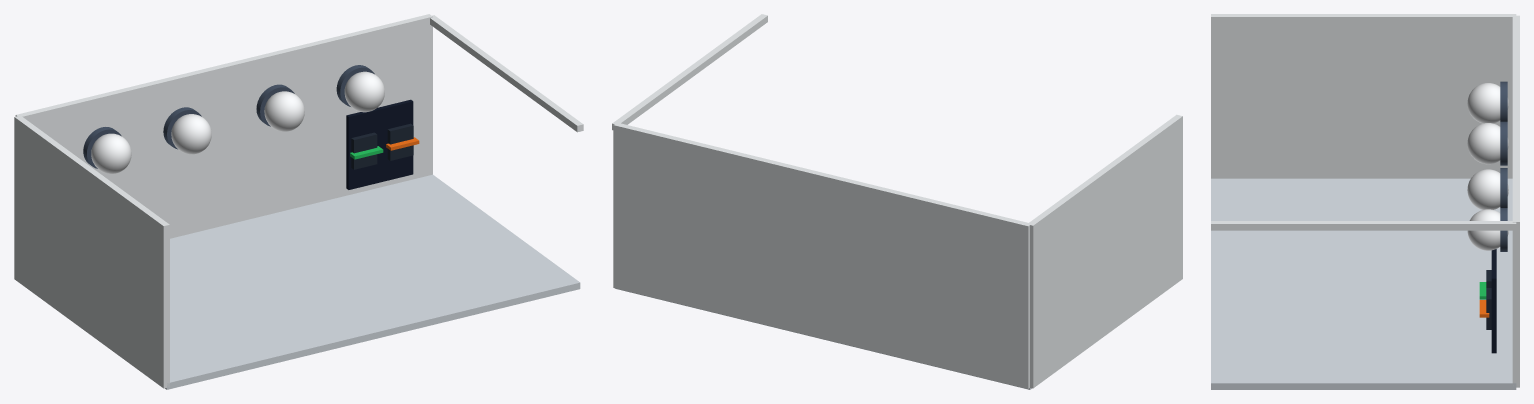
File: switch-room.glb
3 views of the same model, side by side, from view 1: azimuth 30°, elevation 25°; view 2: azimuth 150°, elevation 25°; view 3: azimuth 270°, elevation 25° (orthographic). The views are drawn at different scales.
Visible parts, largest first — view 1: room_floor, room_back_wall, room_left_wall, control_panel, room_right_wall, light_a_1, light_a_2, light_b_1, light_b_2, switch_b, switch_a; view 2: room_back_wall, room_left_wall, room_right_wall; view 3: room_floor, room_left_wall, room_right_wall, room_back_wall, light_a_2, light_b_1, light_a_1, light_b_2, control_panel, light_a_2_fixture, light_a_1_fixture, light_b_1_fixture (+1 smaller).
Part boxes in pixels (box(x1,y1,x2,y2)): room_floor: box(165, 174, 580, 389); room_back_wall: box(15, 14, 432, 238); room_left_wall: box(14, 116, 169, 388); control_panel: box(346, 99, 413, 189); room_right_wall: box(430, 15, 583, 132); light_a_1: box(91, 133, 131, 173); light_a_2: box(171, 114, 211, 154); light_b_1: box(264, 91, 304, 131); light_b_2: box(344, 71, 384, 112); switch_b: box(387, 123, 413, 160); switch_a: box(351, 132, 377, 169); room_back_wall: box(613, 122, 1031, 388); room_left_wall: box(1028, 114, 1182, 388); room_right_wall: box(612, 14, 767, 130); room_floor: box(1211, 178, 1516, 389); room_left_wall: box(1211, 14, 1516, 178); room_right_wall: box(1211, 221, 1516, 230); room_back_wall: box(1512, 15, 1519, 387); light_a_2: box(1467, 123, 1508, 164); light_b_1: box(1467, 169, 1508, 209); light_a_1: box(1467, 83, 1508, 123); light_b_2: box(1467, 209, 1508, 250); control_panel: box(1491, 249, 1496, 353); light_a_2_fixture: box(1500, 121, 1507, 165); light_a_1_fixture: box(1500, 81, 1507, 121); light_b_1_fixture: box(1500, 168, 1507, 207).
Bounding box in the file's own units: 8.12 × 3.04 × 5.06.
